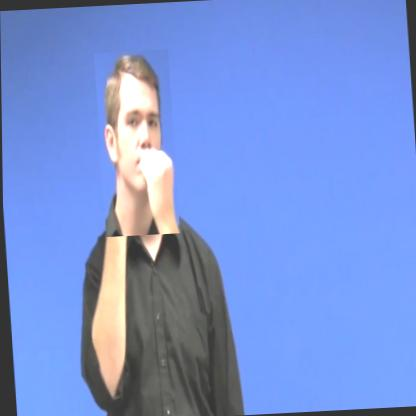Food: (94, 49, 179, 237)
